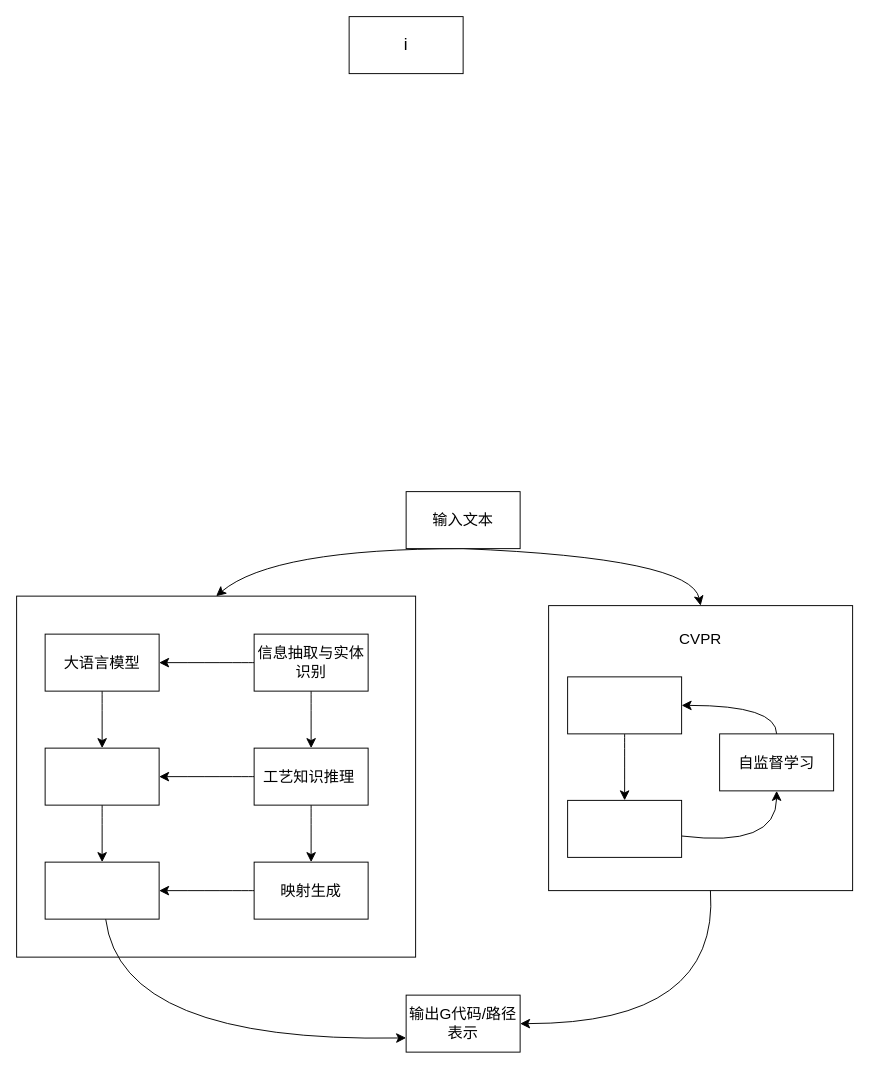
The diagram is 869 pixels wide and 1069 high, and some of its shapes have lost their labels. The shapes that lost their labels are listed below. From the top down, each one's centre as x and y in pixels, then its label:
At (x=624, y=705): "输入： 目标零件和原材料".
At (x=101, y=776): "知识图谱".
At (x=624, y=828): "LSTM+CSG".
At (x=101, y=890): "生成G代码".
